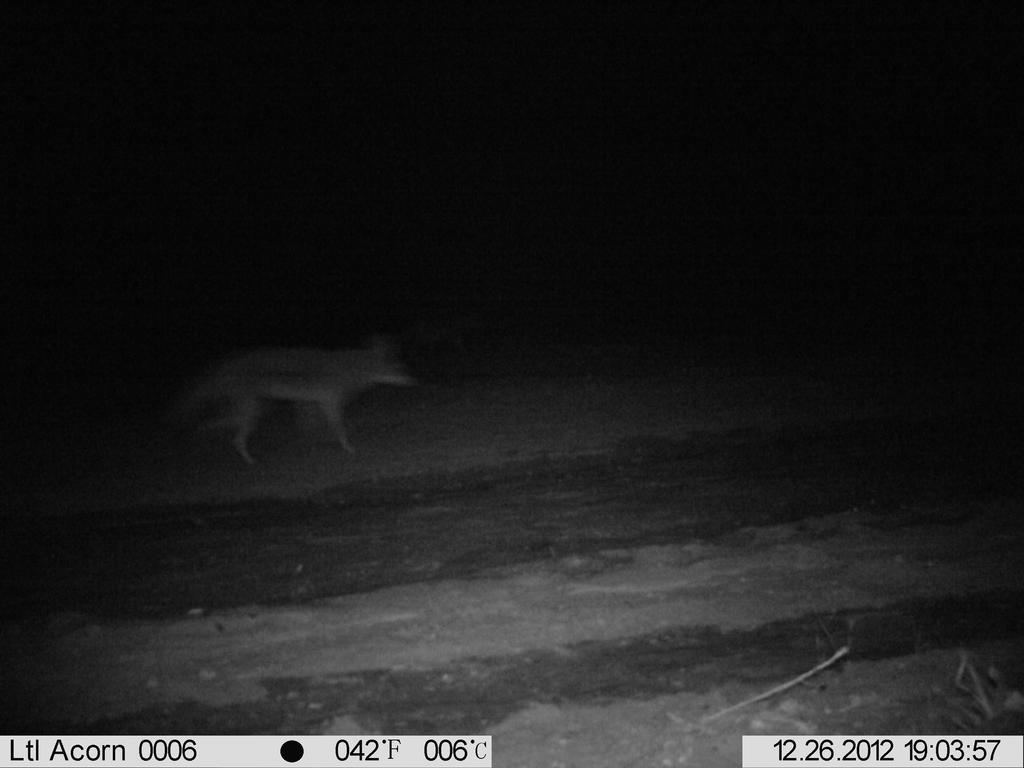coyote: (155, 325, 420, 478)
